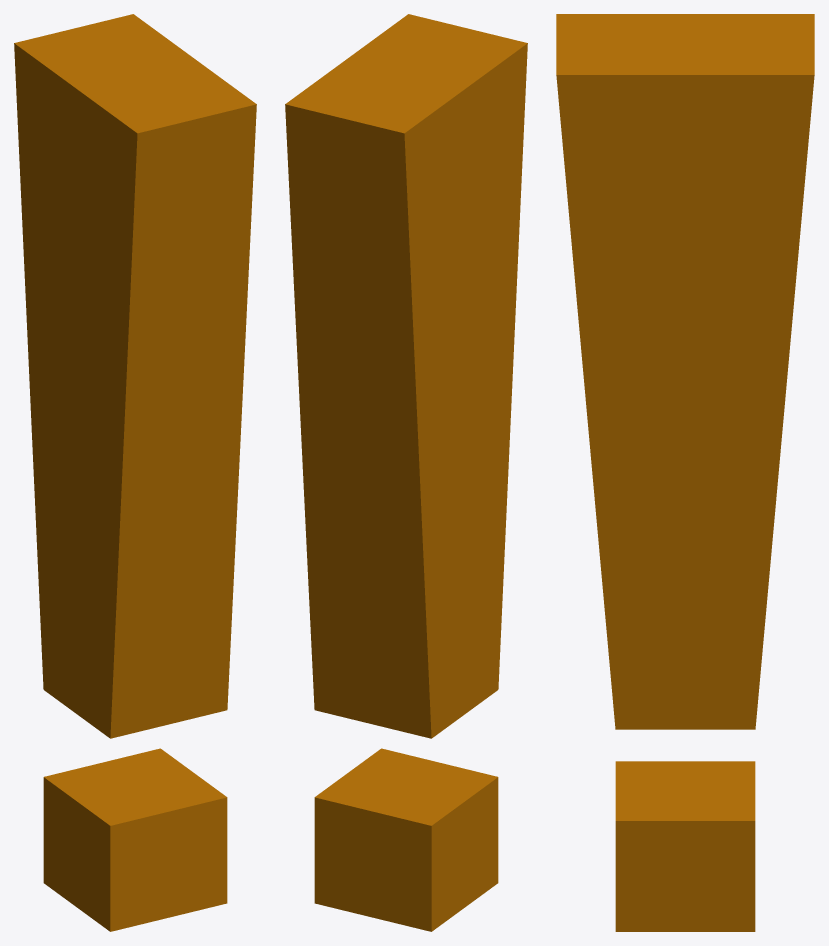
Rendered from Choice.fbx.
The picture shows the model from 3 angles, left to right: view 1: azimuth 30°, elevation 25°; view 2: azimuth 150°, elevation 25°; view 3: azimuth 270°, elevation 25°; orthographic projection. The views are drawn at different scales.
Parts seen in each view (by area): view 1: Choice; view 2: Choice; view 3: Choice.
Part boxes in pixels (x1,y1,x2,y2): Choice: (14, 14, 256, 931); Choice: (285, 14, 527, 931); Choice: (556, 14, 814, 931).
Size of the model in its own units: 24.73 by 162 by 44.28.
